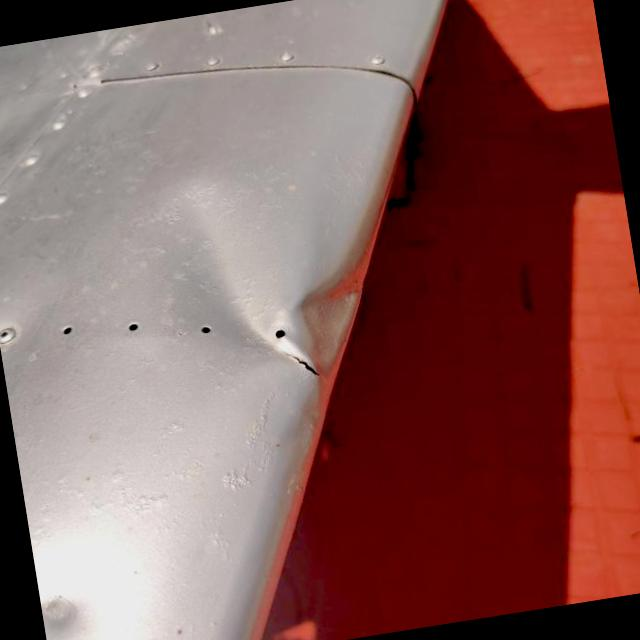crack: (261, 334, 339, 399)
dent: (147, 150, 430, 409), (35, 561, 111, 640)
